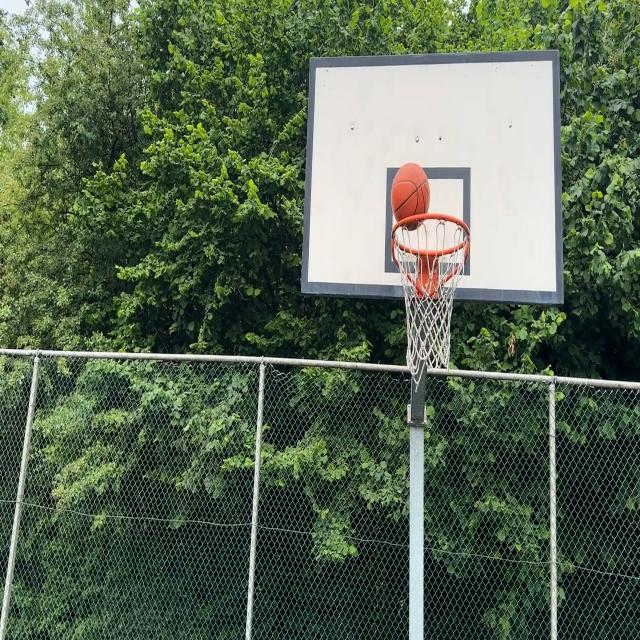rebound_hit: (391, 163, 431, 235)
